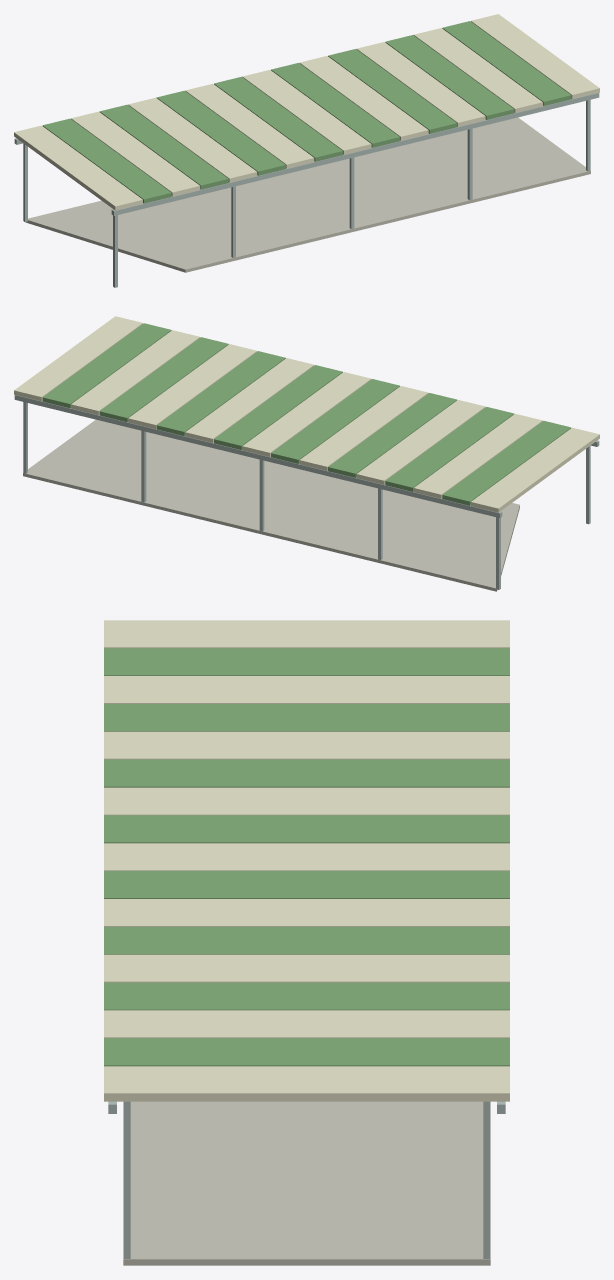
3 views of the same model, one above another, from view 1: azimuth 30°, elevation 25°; view 2: azimuth 150°, elevation 25°; view 3: azimuth 270°, elevation 25° (orthographic). The views are drawn at different scales.
Visible parts, largest first — view 1: west__slab, west__cream, west__green, west__metal; view 2: west__slab, west__cream, west__green, west__metal; view 3: west__cream, west__green, west__slab, west__metal.
Boxes of the visible parts, x1,y1,x2,y2 form: west__slab: [25, 117, 590, 272]; west__cream: [14, 14, 599, 210]; west__green: [42, 21, 571, 203]; west__metal: [14, 93, 599, 287]; west__slab: [23, 419, 519, 591]; west__cream: [14, 316, 599, 512]; west__green: [42, 323, 571, 505]; west__metal: [14, 395, 599, 589]; west__cream: [104, 620, 509, 1101]; west__green: [104, 648, 509, 1066]; west__slab: [123, 1101, 490, 1265]; west__metal: [108, 1101, 505, 1258].
Size of the model in its own units: 19.35 by 3.36 by 7.
